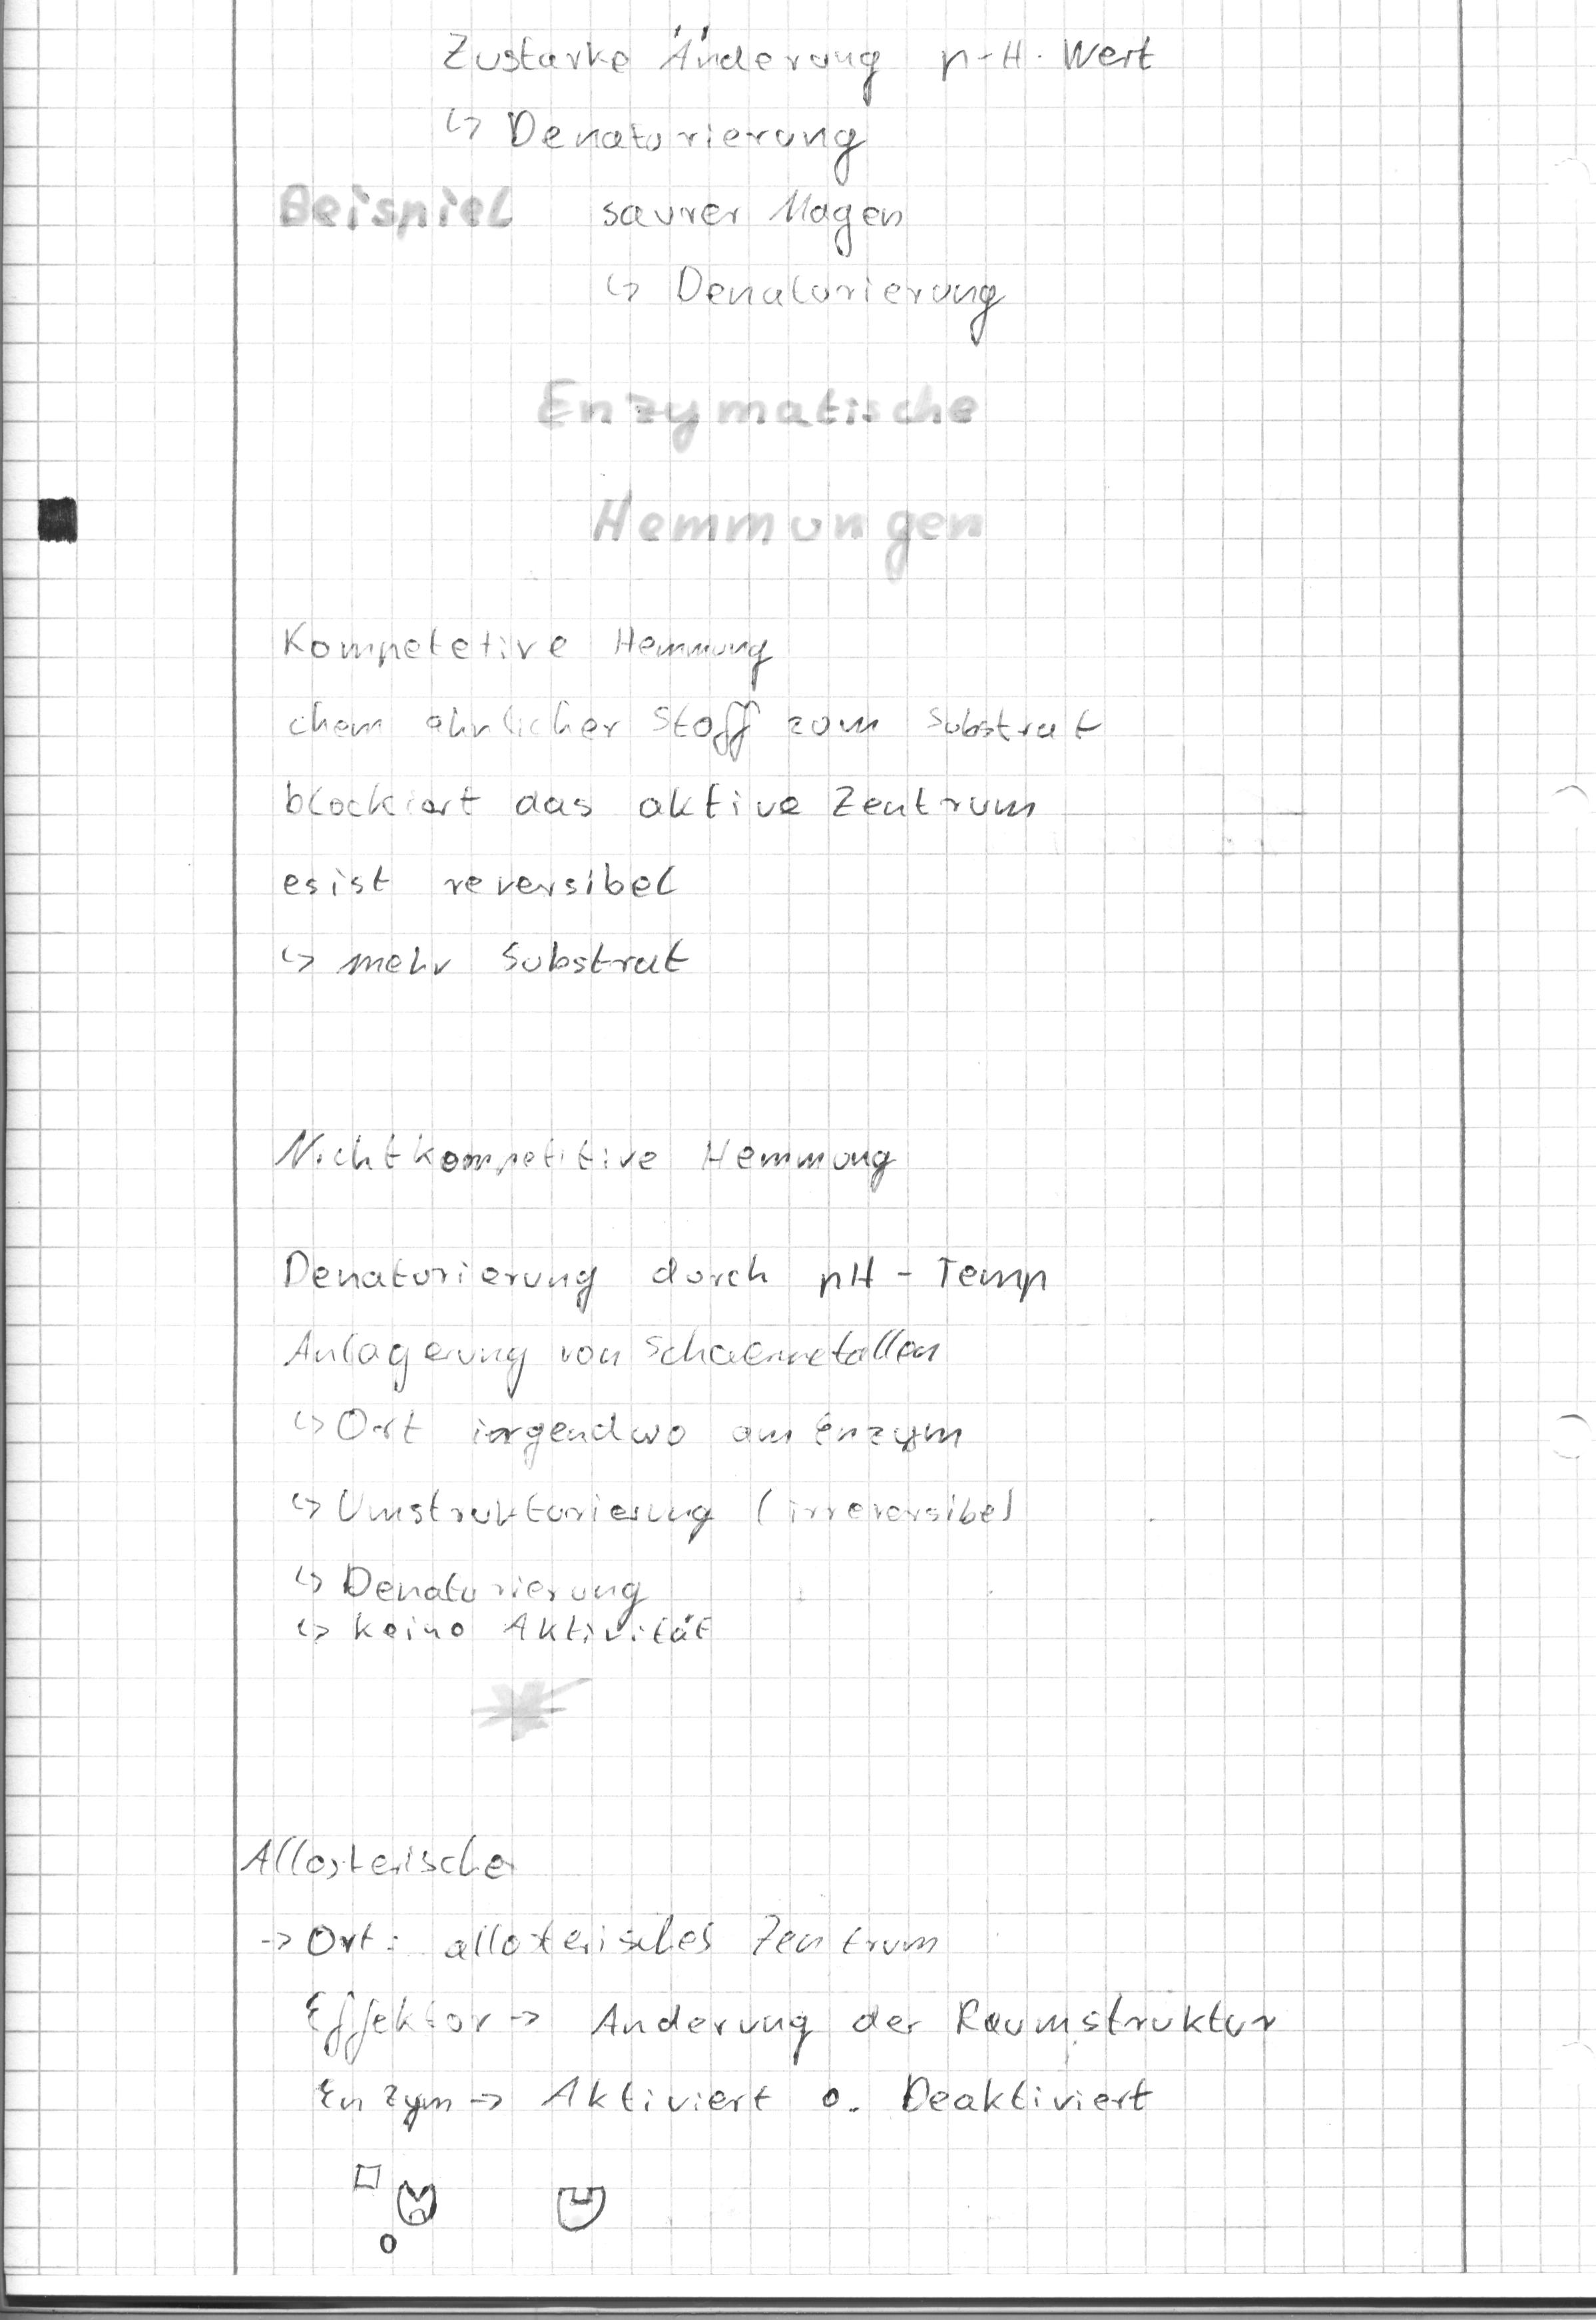word: (266, 1218, 1059, 1660), (264, 605, 1112, 1016), (248, 1906, 1284, 2152), (425, 15, 1163, 184), (591, 183, 1015, 360), (260, 1107, 909, 1207), (224, 1820, 533, 1903)
